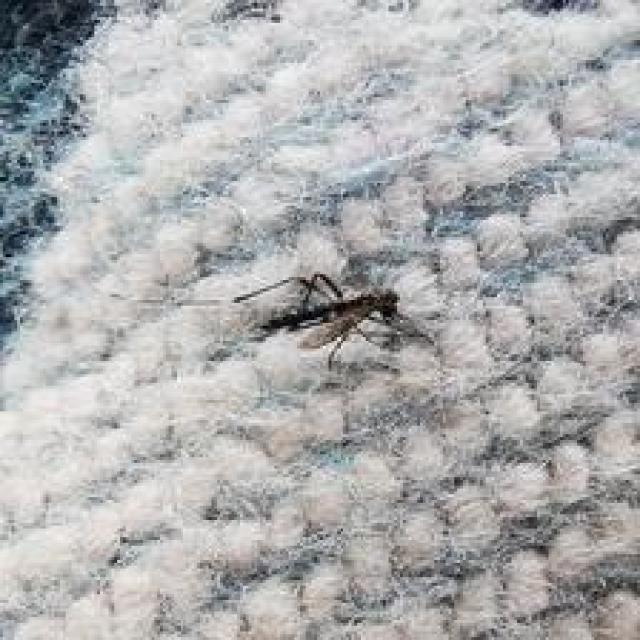Aedes albopictus: (232, 268, 434, 372)
